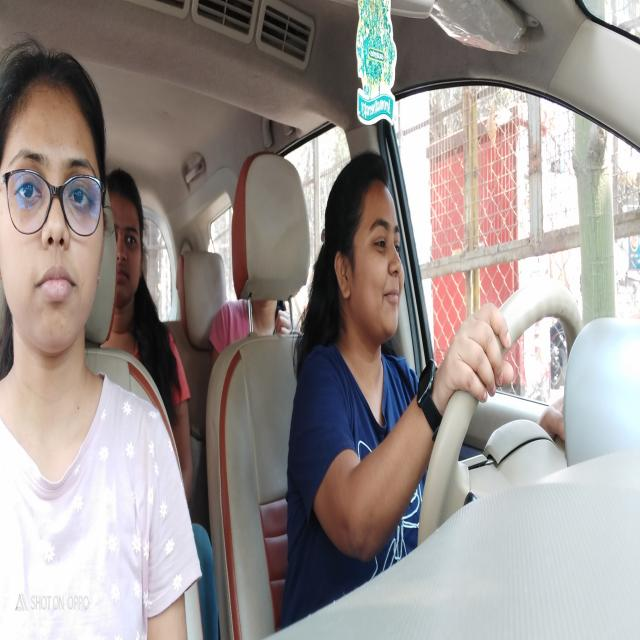person: (1, 53, 108, 350), (334, 152, 409, 356), (108, 167, 147, 330)
